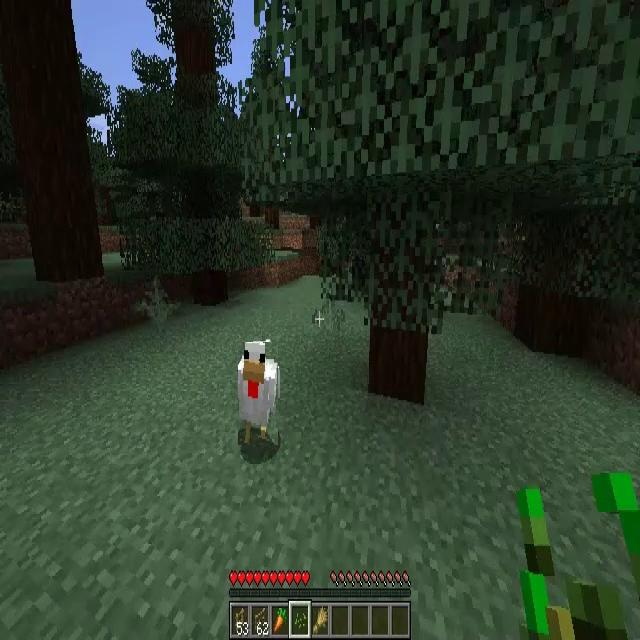duck: (238, 342, 278, 445)
